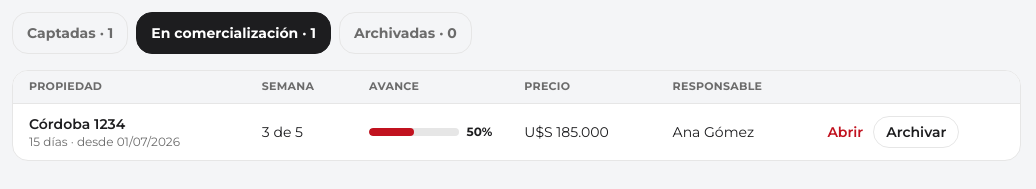
Test: ReporteGeneral › muestra un vacío explicativo cuando no hay filas en el grupo
Click the button "Archivadas · 0" at (405, 33), box [339, 12, 472, 54]
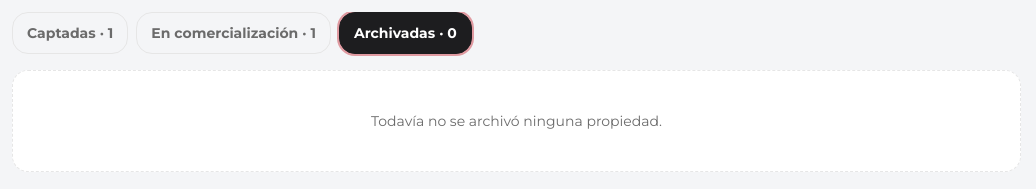
Now the text "Todavía no se archivó ninguna propiedad." is shown, box [12, 70, 1021, 172]
